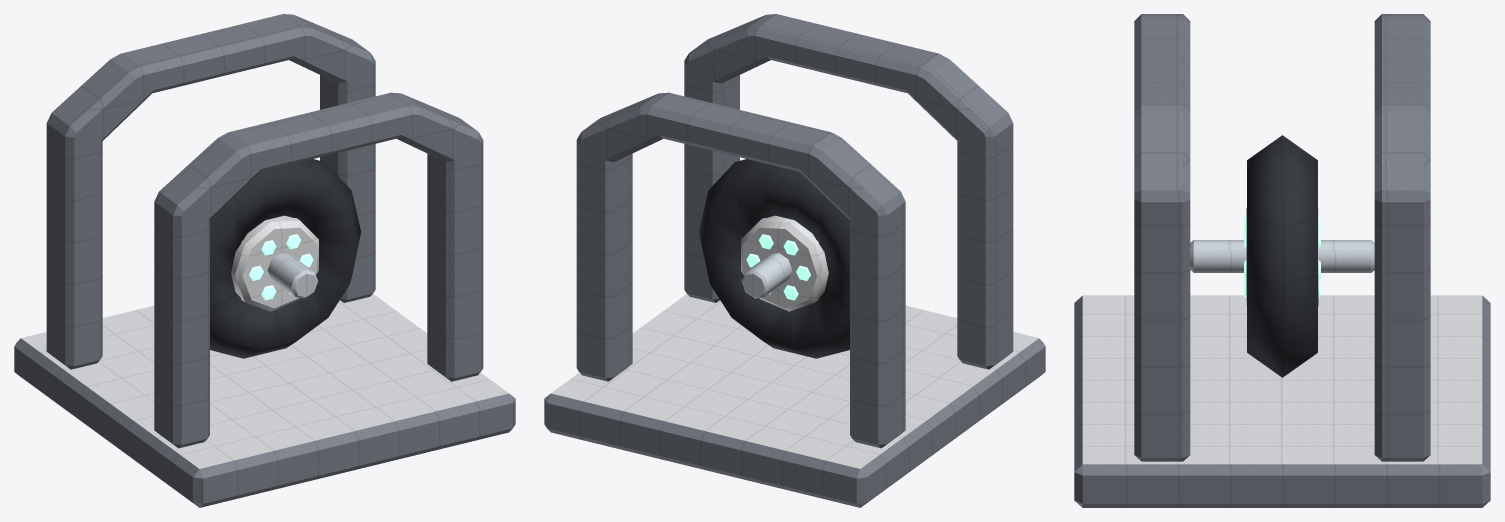
The model's file is R4X_MovementDurabilityBooster_LOD1.glb.
3 renders of one model, left to right at view 1: azimuth 30°, elevation 25°; view 2: azimuth 150°, elevation 25°; view 3: azimuth 270°, elevation 25°, orthographic. The views are drawn at different scales.
Visible parts, largest first — view 1: R4X_MovementDurabilityBooster_LOD1; view 2: R4X_MovementDurabilityBooster_LOD1; view 3: R4X_MovementDurabilityBooster_LOD1.
Boxes of the visible parts, x1,y1,x2,y2 form: R4X_MovementDurabilityBooster_LOD1: (14,14,515,507); R4X_MovementDurabilityBooster_LOD1: (544,14,1045,507); R4X_MovementDurabilityBooster_LOD1: (1074,14,1490,507).
Size of the model in its own units: 0.52 by 0.5 by 0.52.
5 materials, 4 textured.
